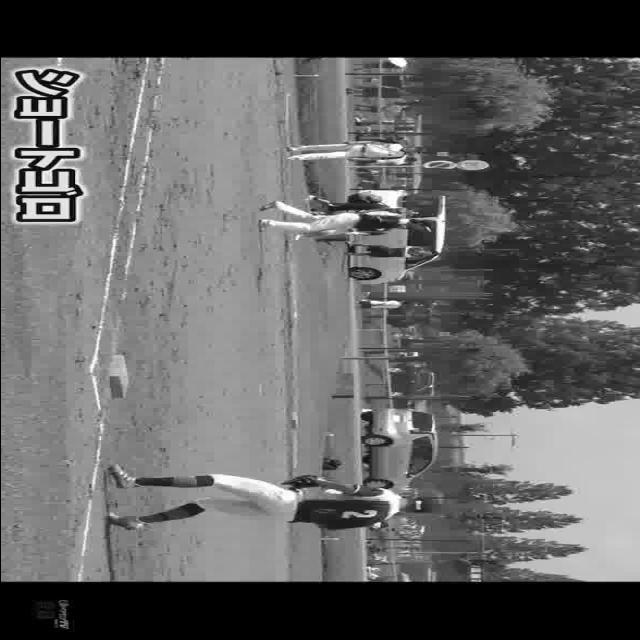base: (104, 355, 136, 398)
baseball_glove: (274, 472, 324, 490)
shoe: (102, 462, 142, 491), (96, 512, 148, 531), (254, 198, 284, 214), (253, 216, 275, 234)
